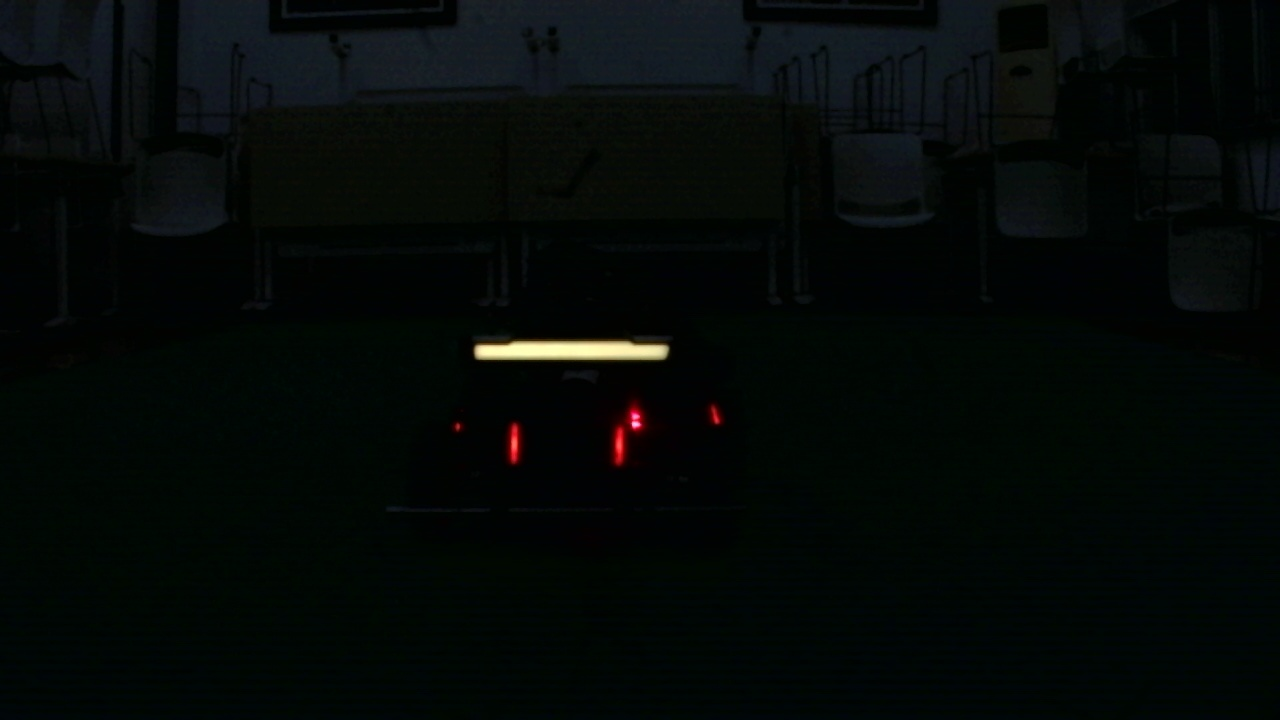lamp: (507, 422, 523, 467), (612, 419, 626, 467)
pair1: (510, 421, 626, 464)
